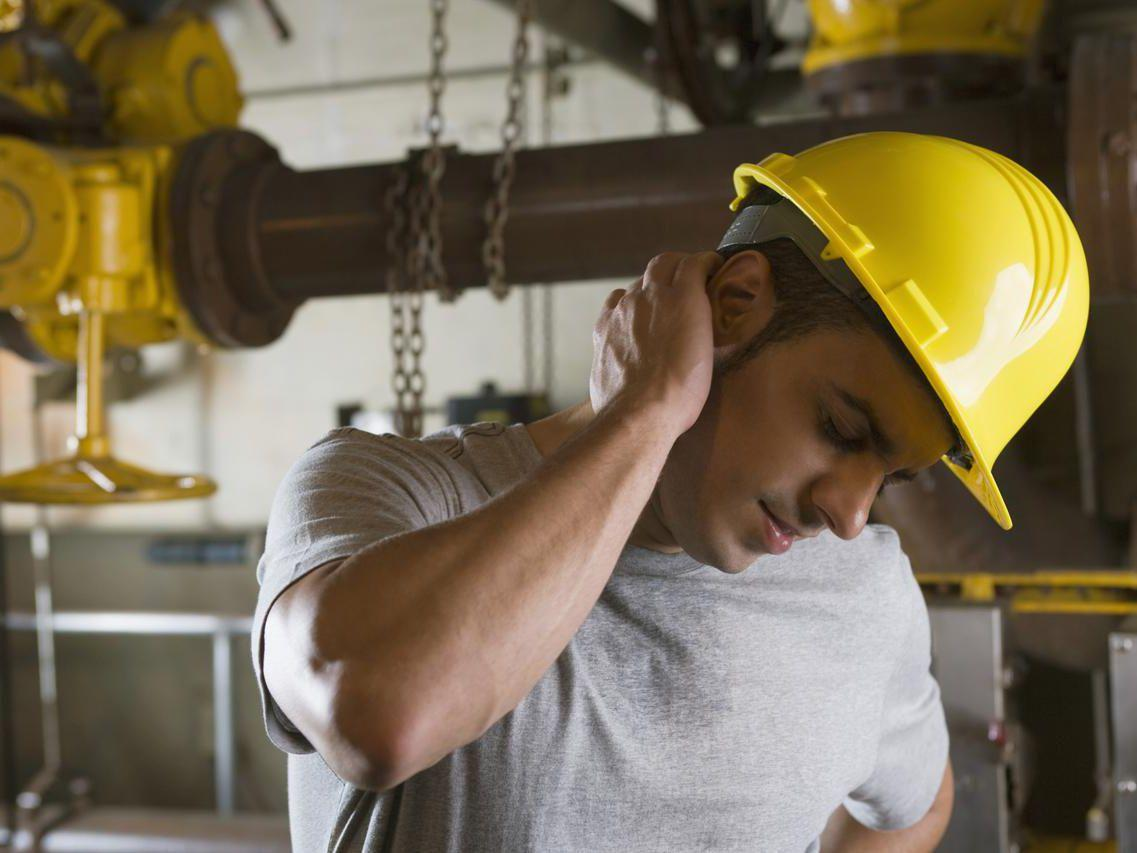helmet: (730, 129, 1093, 531)
